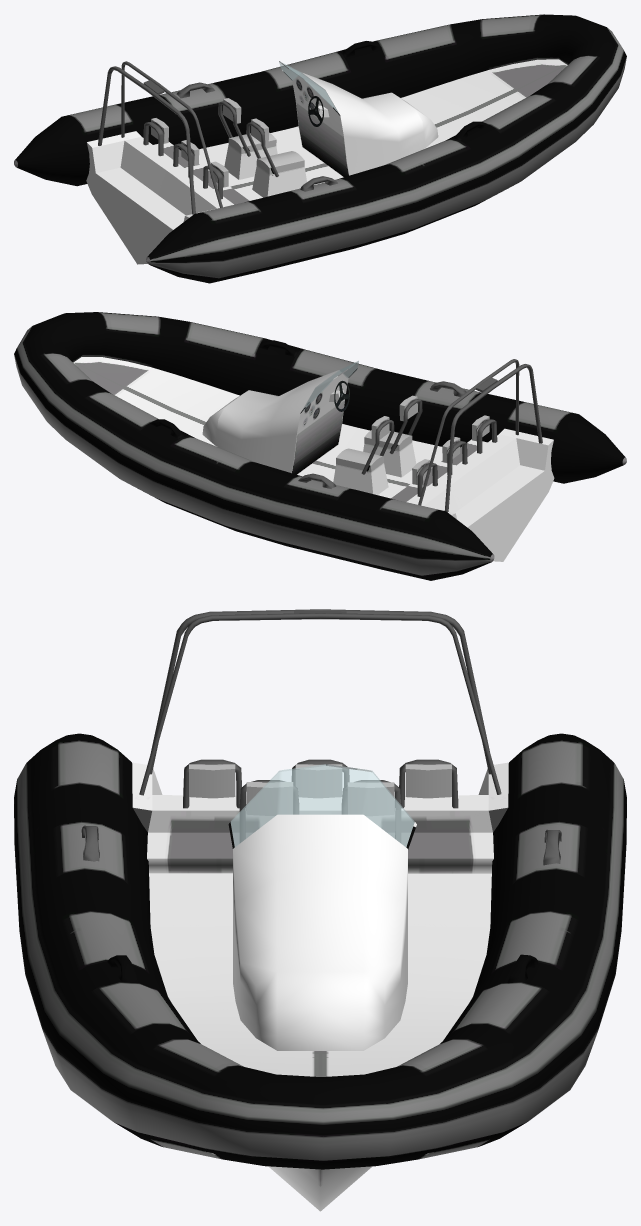
Rendered from RibBoat.fbx.
3 renders of one model, top to bottom at view 1: azimuth 30°, elevation 25°; view 2: azimuth 150°, elevation 25°; view 3: azimuth 270°, elevation 25°, orthographic. The views are drawn at different scales.
Parts seen in each view (by area): view 1: RibBoat; view 2: RibBoat; view 3: RibBoat.
Boxes of the visible parts, bbox=[...] form: RibBoat: bbox=[14, 14, 626, 283]; RibBoat: bbox=[14, 312, 626, 580]; RibBoat: bbox=[14, 609, 626, 1211].
Size of the model in its own units: 812 by 260 by 444.
